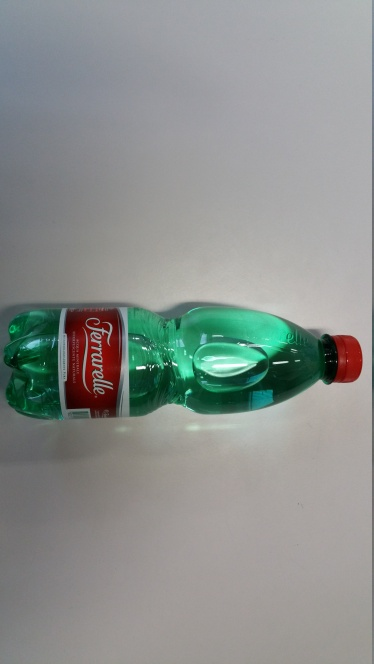bottle: (6, 301, 374, 424)
